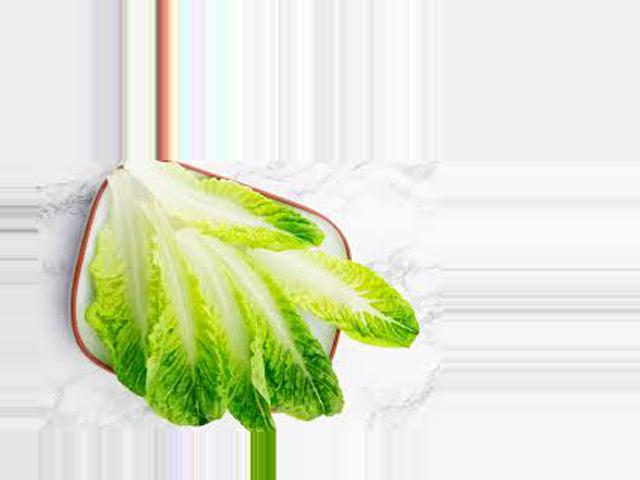lettuce: (65, 168, 424, 433)
